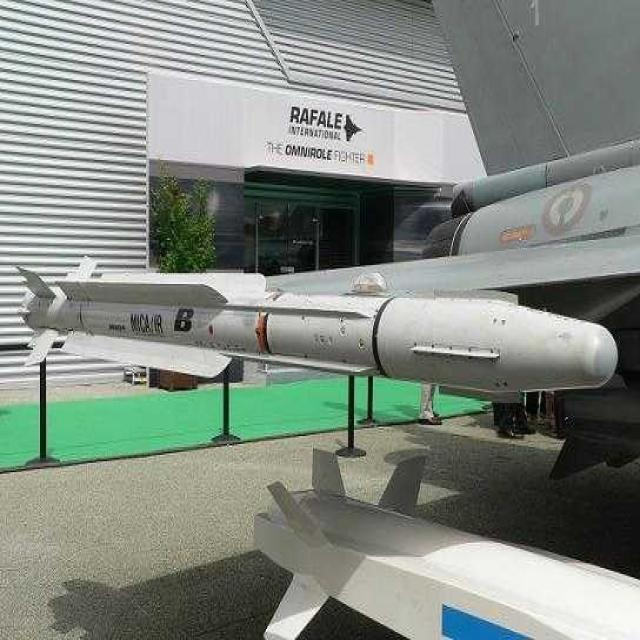missile: (14, 258, 618, 391)
